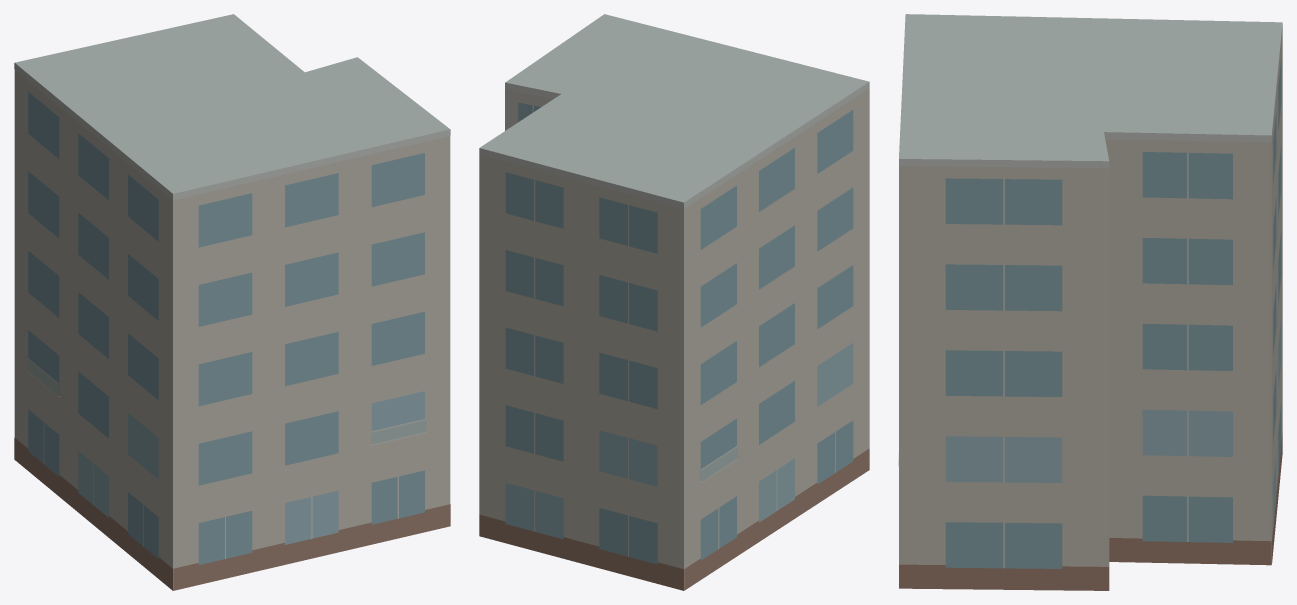
The model's file is survey-upis-32572667.glb.
3 views of the same model, side by side, from view 1: azimuth 30°, elevation 25°; view 2: azimuth 150°, elevation 25°; view 3: azimuth 270°, elevation 25° (orthographic). The views are drawn at different scales.
Parts seen in each view (by area): view 1: survey-upis-32572667.tmp; view 2: survey-upis-32572667.tmp; view 3: survey-upis-32572667.tmp.
Part boxes in pixels (<box>): survey-upis-32572667.tmp: <box>14,14,450,590</box>; survey-upis-32572667.tmp: <box>479,14,869,590</box>; survey-upis-32572667.tmp: <box>898,14,1282,590</box>.
Size of the model in its own units: 10.95 by 14.9 by 12.09.
